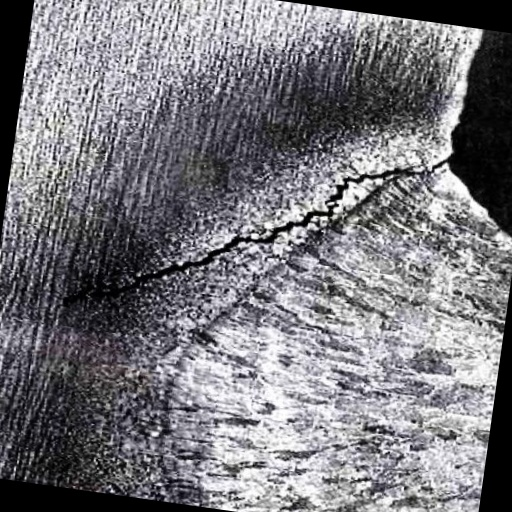crack: (53, 100, 465, 370)
